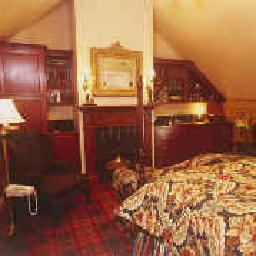Cama: (133, 154, 255, 254)
